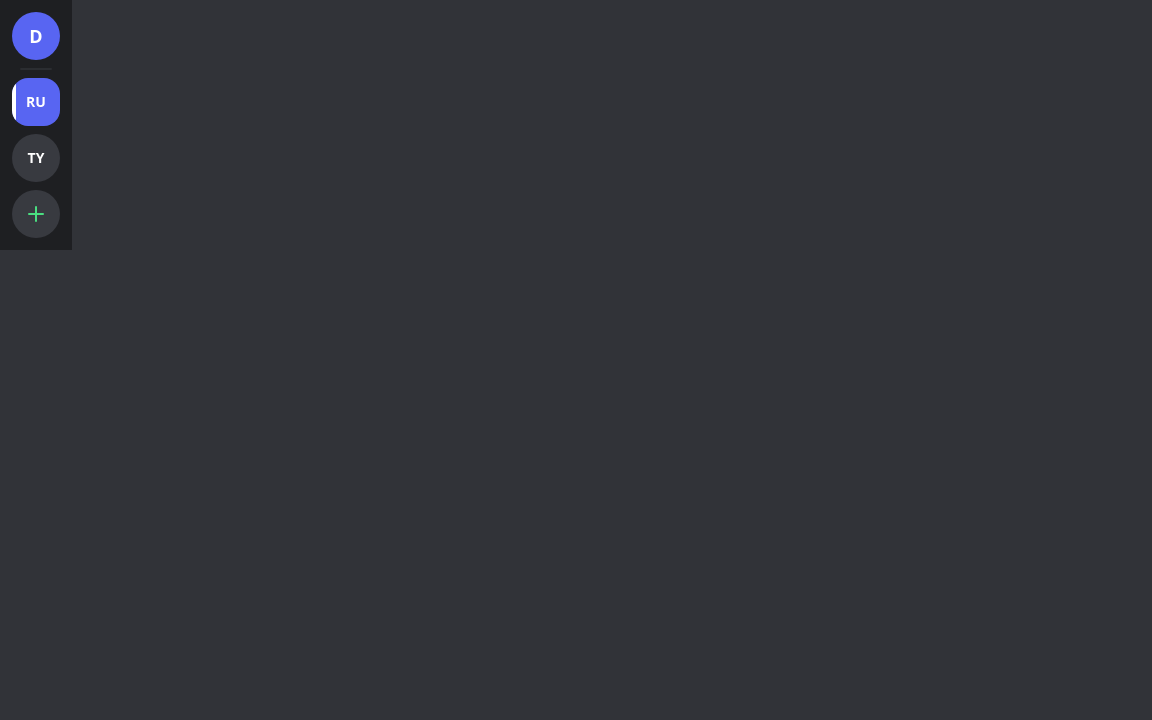
Test case: ServerSidebar › shows error in dialog when create fails
Click the button named "add a server".
click(36, 214)  # box [12,190,60,238]
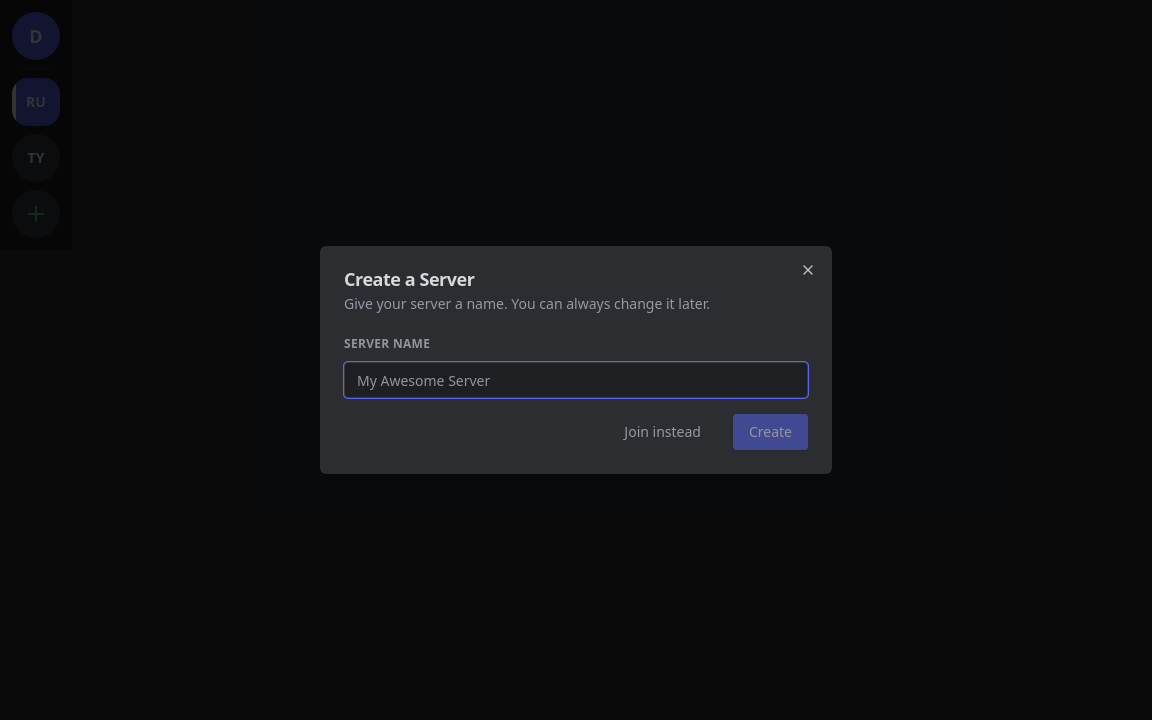
Now the field labelled "Server Name" is shown
Type "Bad Server" into the field labelled "Server Name".
click(576, 380); type("Bad Server")  # box [344,362,808,398]
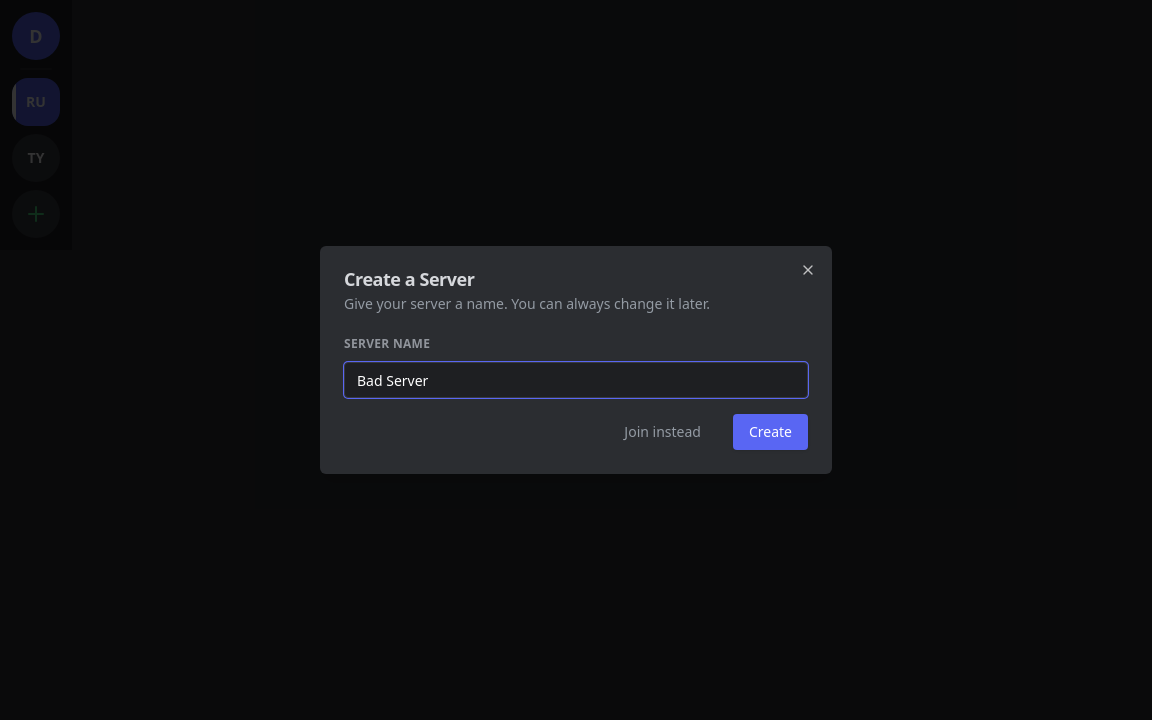
Click the button "Create".
click(770, 432)  # box [733,414,808,450]
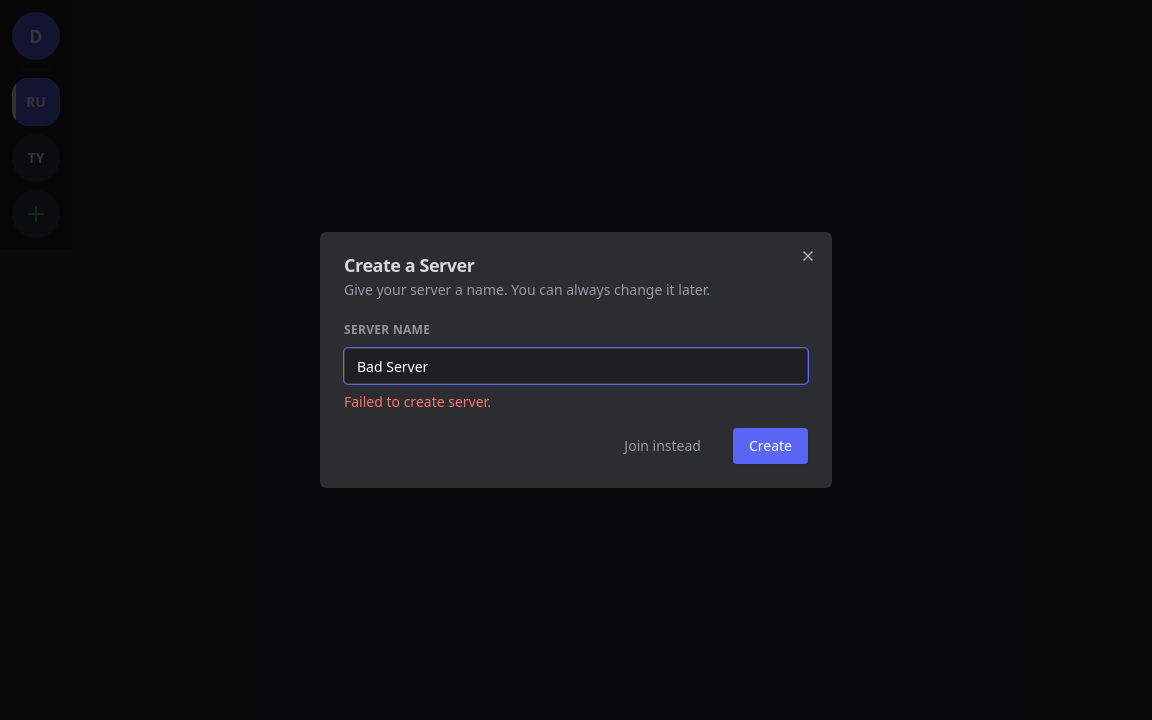
Now the text "Failed to create server." is shown, box [344,392,491,411]
